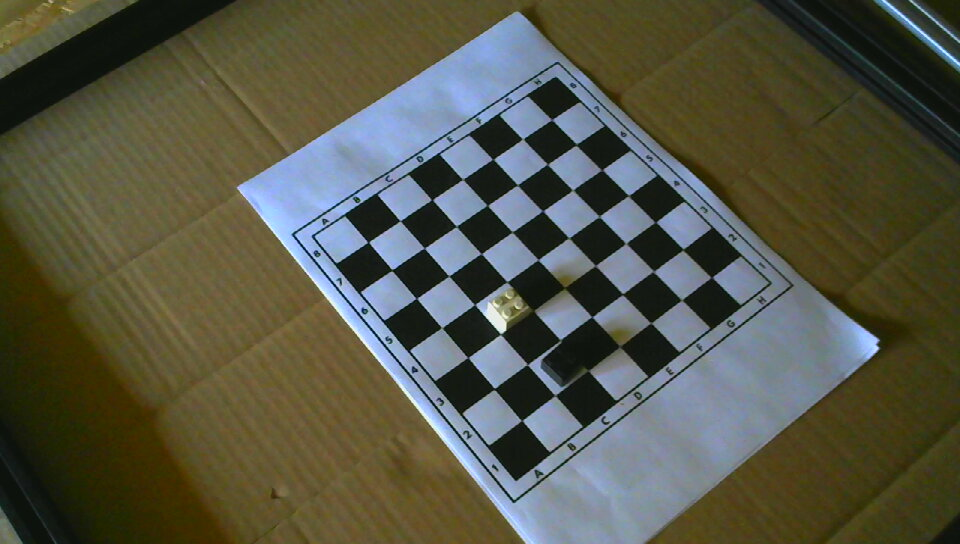bp: (541, 340, 585, 388)
wp: (486, 288, 529, 330)
